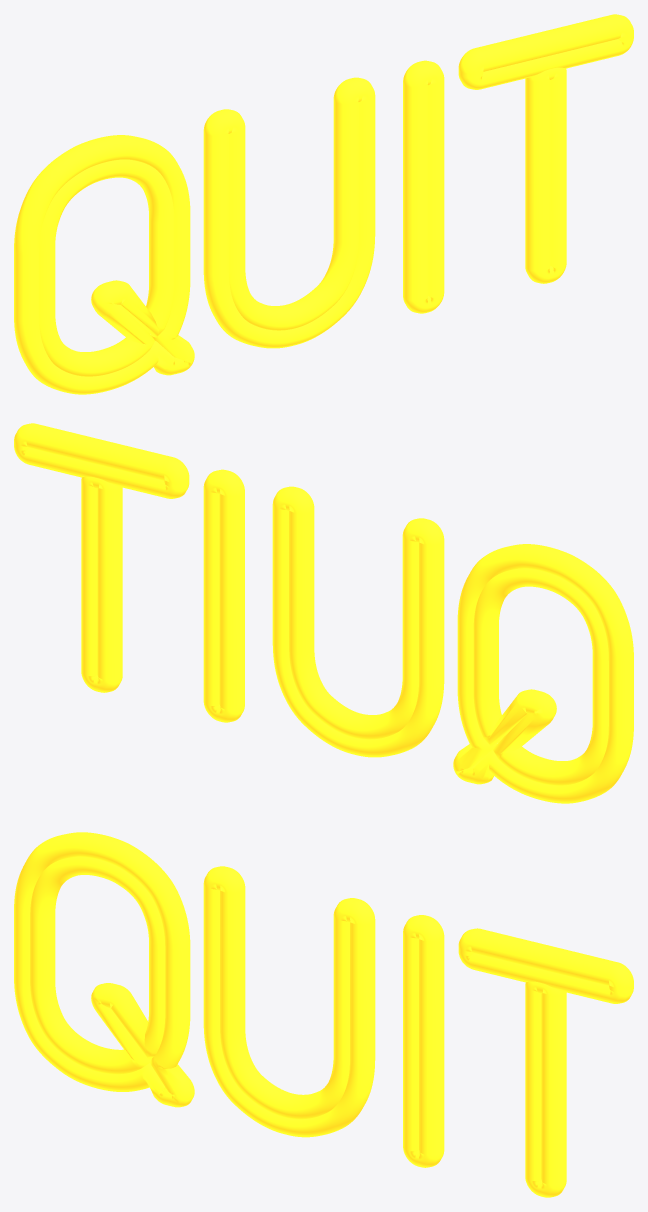
The model's file is QUITTextNeon.fbx.
3 views of the same model, one above another, from view 1: azimuth 30°, elevation 25°; view 2: azimuth 150°, elevation 25°; view 3: azimuth 330°, elevation 25° (orthographic).
Visible parts, largest first — view 1: Text; view 2: Text; view 3: Text.
Part boxes in pixels (left/top/right/bottom): Text: left=14, top=14, right=633, bottom=394; Text: left=14, top=423, right=633, bottom=803; Text: left=14, top=832, right=633, bottom=1197.
Bounding box in the file's own units: 1.64 × 0.639 × 0.06.
